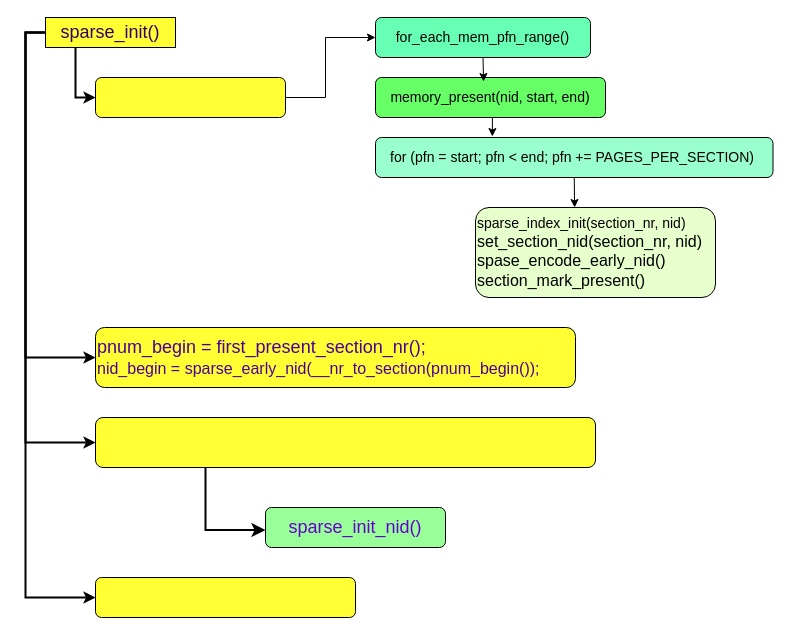
Some shapes in this 790 by 635 pixel diagram are drawn without their labels. The shapes that lost their labels are listed below. From the top down, each one's centre as x and y in pixels, then its label:
At (190,97): "memblocks_present()".
At (345,442): "for_each_present_section_nr(pnum_begin + 1, pnum_end)".
At (225,597): "sparse_init_nid() [last node]".
